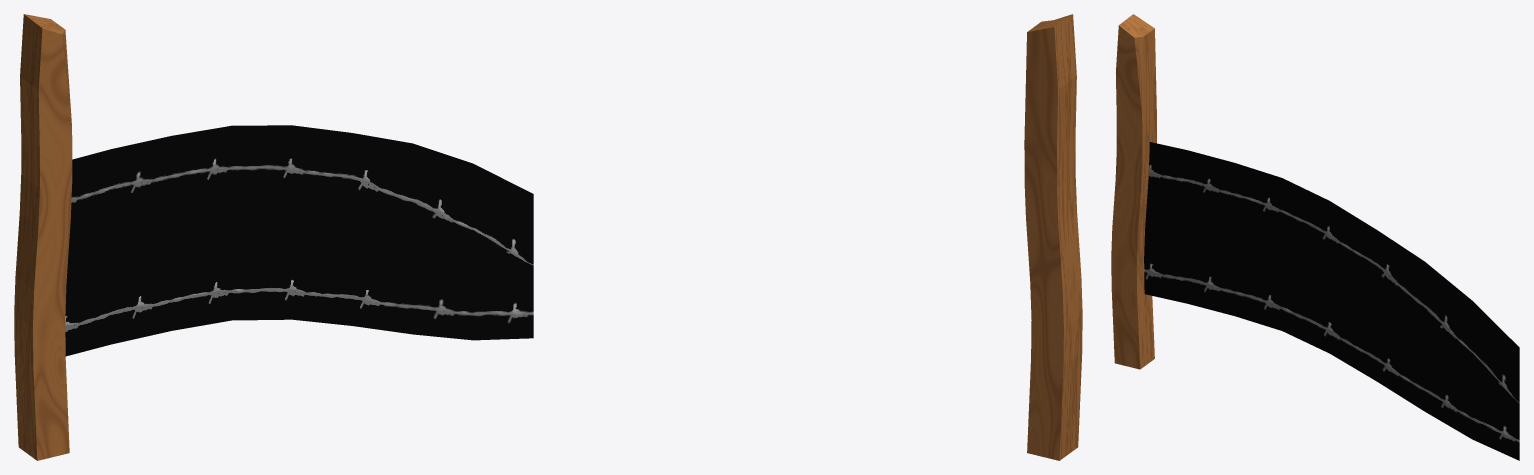
The model's file is model_cercaquebrada_01.fbx.
The picture shows the model from 3 angles, left to right: view 1: azimuth 30°, elevation 25°; view 2: azimuth 150°, elevation 25°; view 3: azimuth 330°, elevation 25°; orthographic projection. The views are drawn at different scales.
Visible parts, largest first — view 1: cerca de arrame farpado.002; view 2: cerca de arrame farpado.002; view 3: cerca de arrame farpado.002.
Part boxes in pixels (bbox=[...]): cerca de arrame farpado.002: bbox=[14, 14, 533, 460]; cerca de arrame farpado.002: bbox=[1024, 14, 1082, 460]; cerca de arrame farpado.002: bbox=[1111, 14, 1519, 460].
Size of the model in its own units: 2.11 by 1.74 by 0.1342.
Materials: 2 (2 with a texture image).
